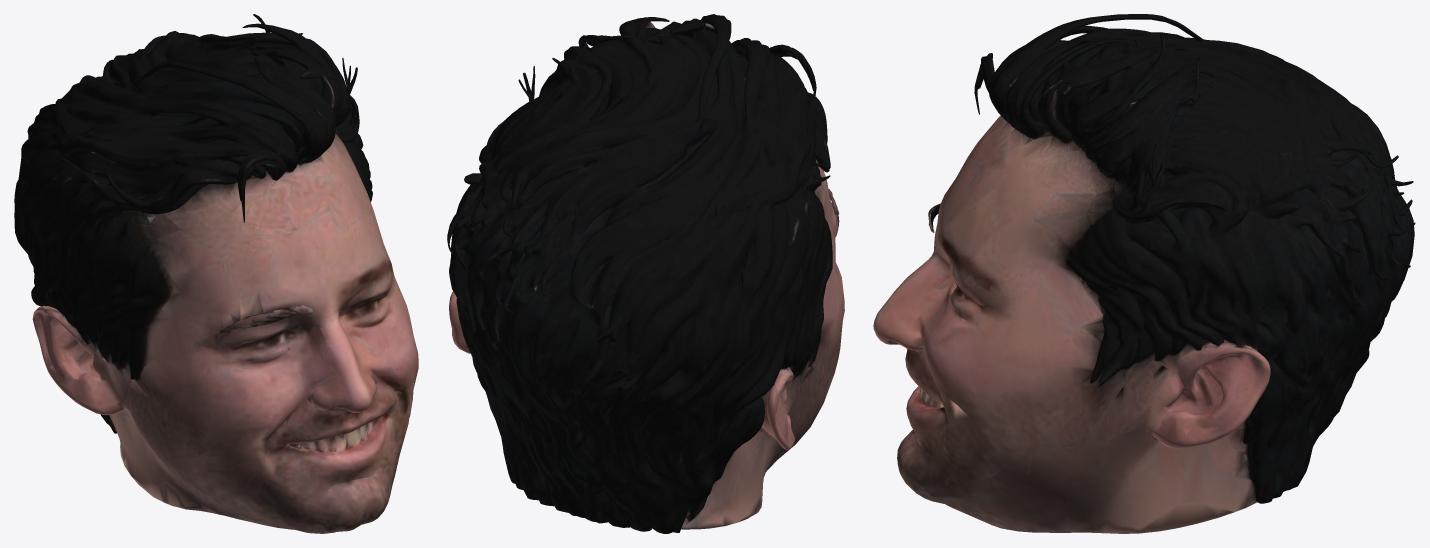
File: head_brendan.glb
3 renders of one model, left to right at view 1: azimuth 30°, elevation 25°; view 2: azimuth 150°, elevation 25°; view 3: azimuth 270°, elevation 25°, orthographic. The views are drawn at different scales.
Parts seen in each view (by area): view 1: Mesh_0; view 2: Mesh_0; view 3: Mesh_0.
Boxes of the visible parts, x1,y1,x2,y2 form: Mesh_0: (14,14,418,533); Mesh_0: (447,14,844,533); Mesh_0: (873,14,1415,533).
Bounding box in the file's own units: 0.7027 × 0.9517 × 0.9722.
Materials: 1 (1 with a texture image).
